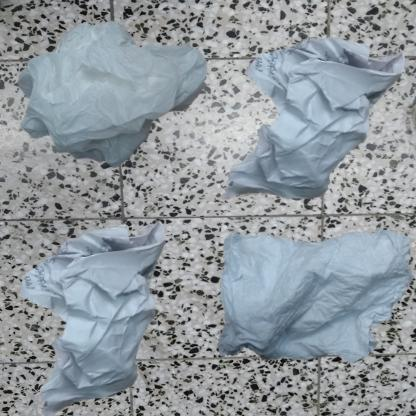bolsa: (10, 10, 223, 182)
papel: (213, 10, 416, 249), (10, 213, 191, 416), (213, 213, 416, 376)
